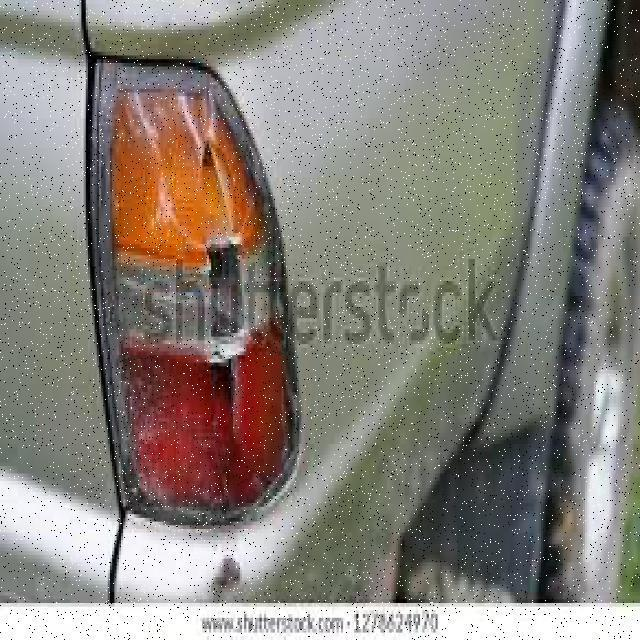Taillight-Damage: (83, 37, 314, 588)
